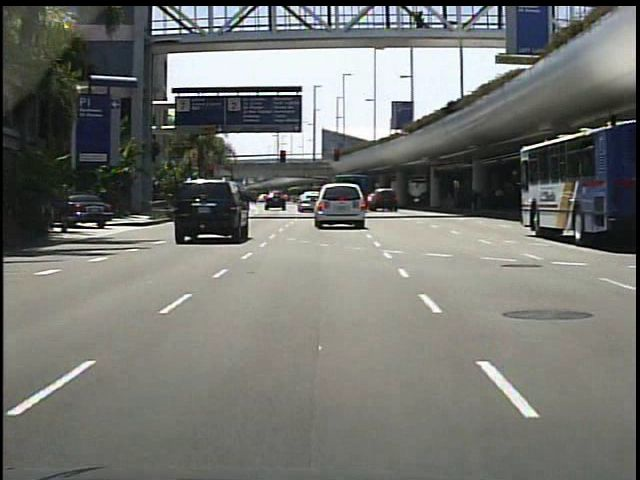person: (411, 10, 430, 40)
